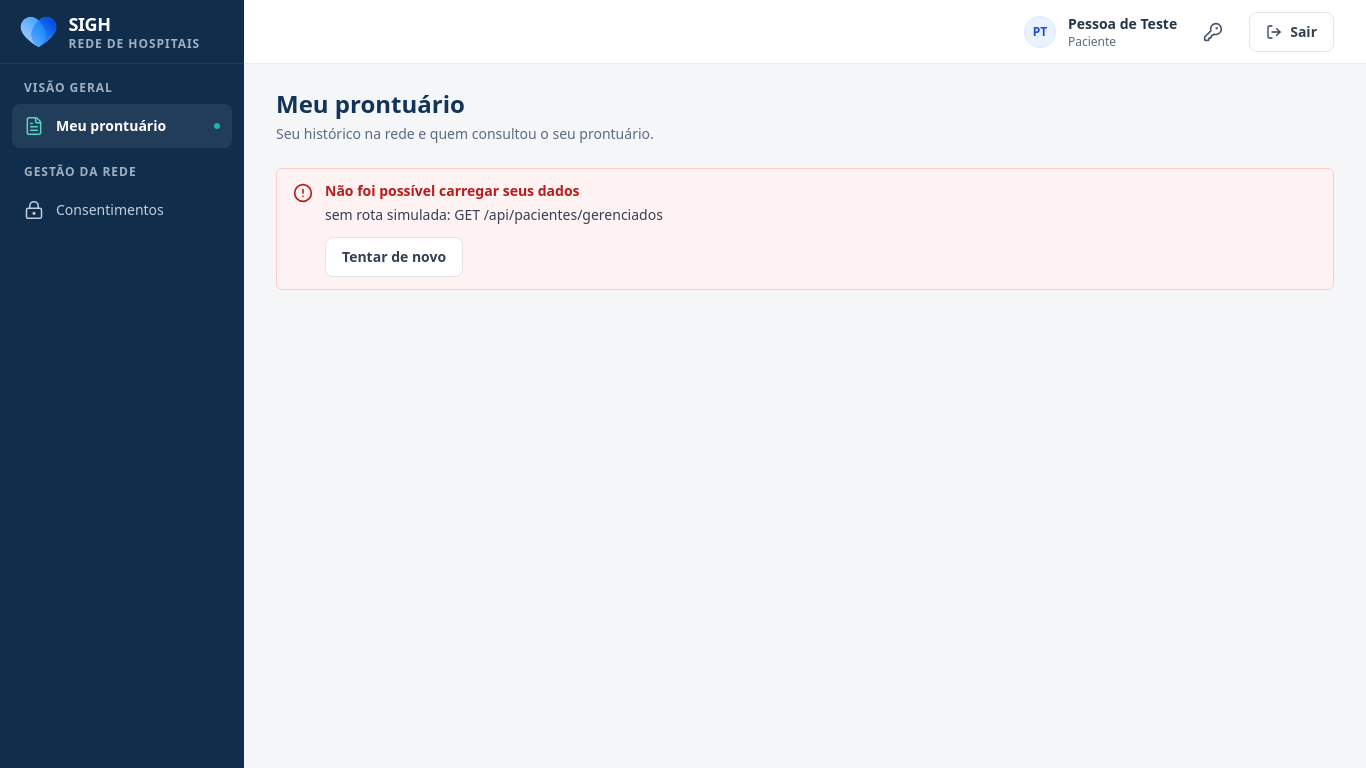
Scenario: shell autenticado › sair descarta o token e volta ao login com o aviso
The width and height of the screenshot is (1366, 768).
Expected: the heading "Meu prontuário" is shown, [276,87,465,120]
Click the button "Sair" at (1292, 32), box [1249,12,1334,52]
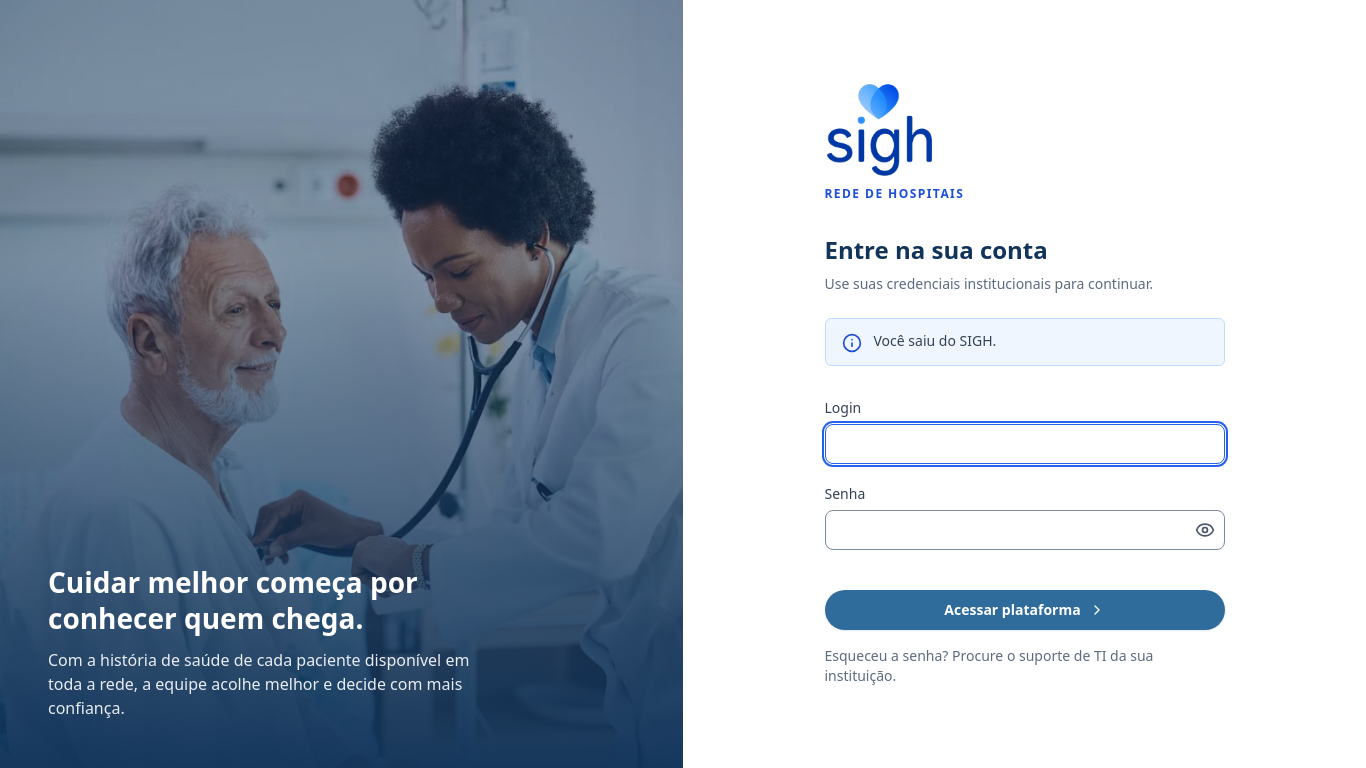
Expected: the text "Você saiu do SIGH." is shown, [874,331,996,350]
